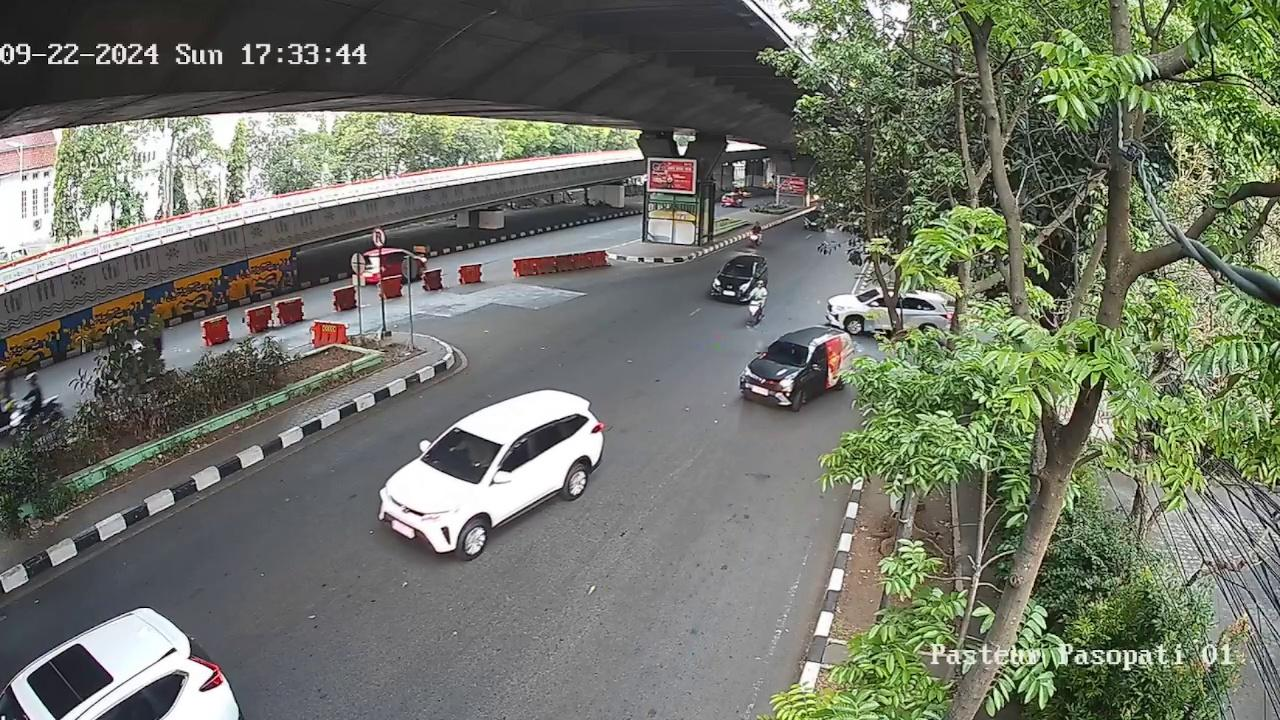tidak-pakai: (462, 439, 493, 466)
windshield: (426, 426, 502, 482), (762, 343, 809, 365), (723, 259, 756, 278)
